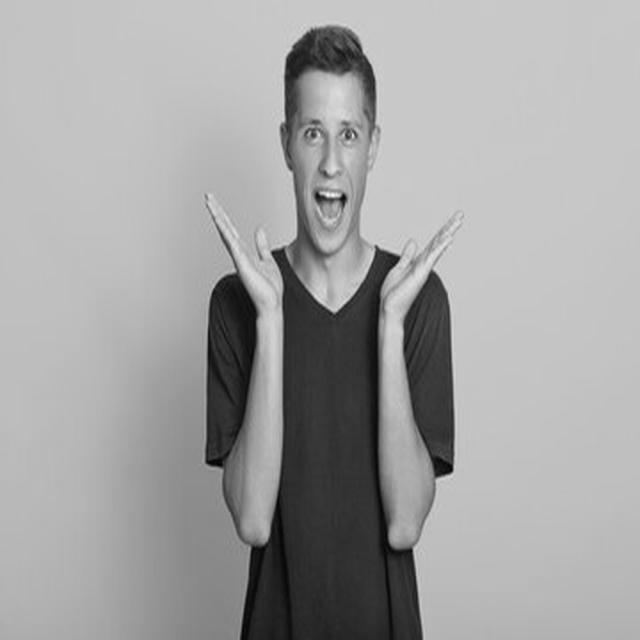Surprised: (291, 74, 370, 255)
